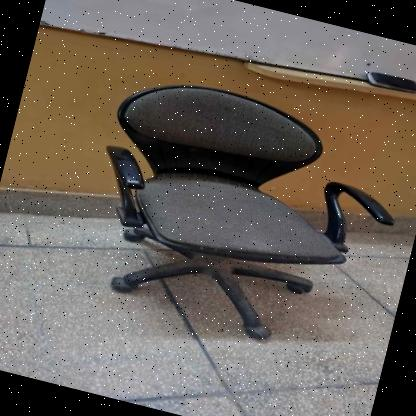chair: (61, 51, 416, 368)
